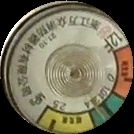green: (89, 90, 125, 129)
needle: (86, 92, 108, 122)
red: (111, 41, 134, 100)
yellow: (38, 106, 97, 134)
